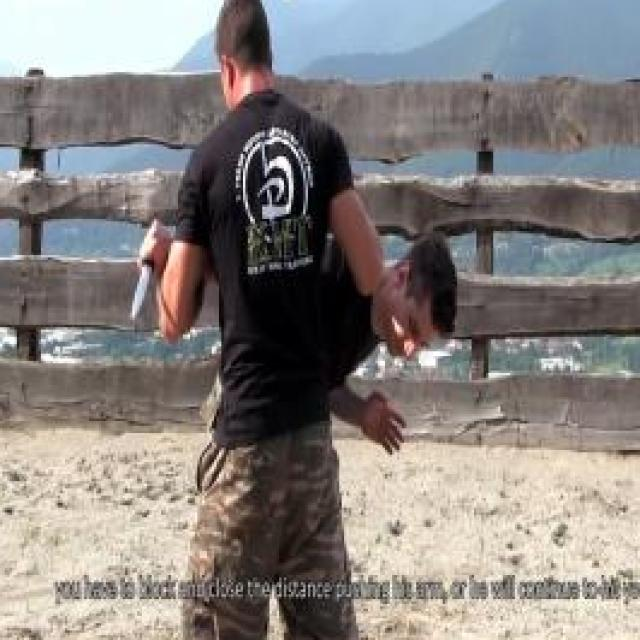knife: (123, 212, 167, 324)
